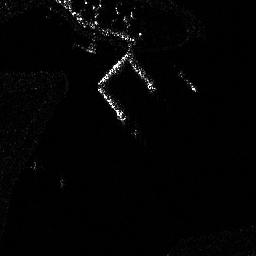ship: (176, 71, 198, 92)
